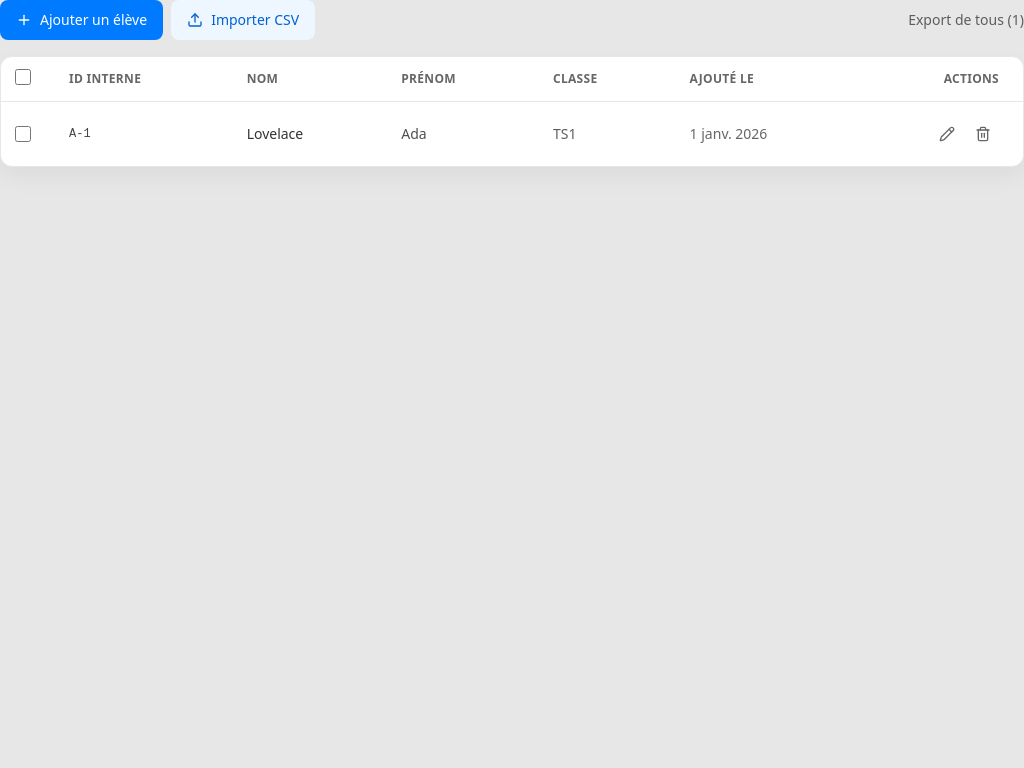
StudentsManager — actions › préremplit la fiche pour une modification
Click the button named "Modifier Lovelace Ada".
click(947, 134)  # box x1=931 y1=118 x2=963 y2=150
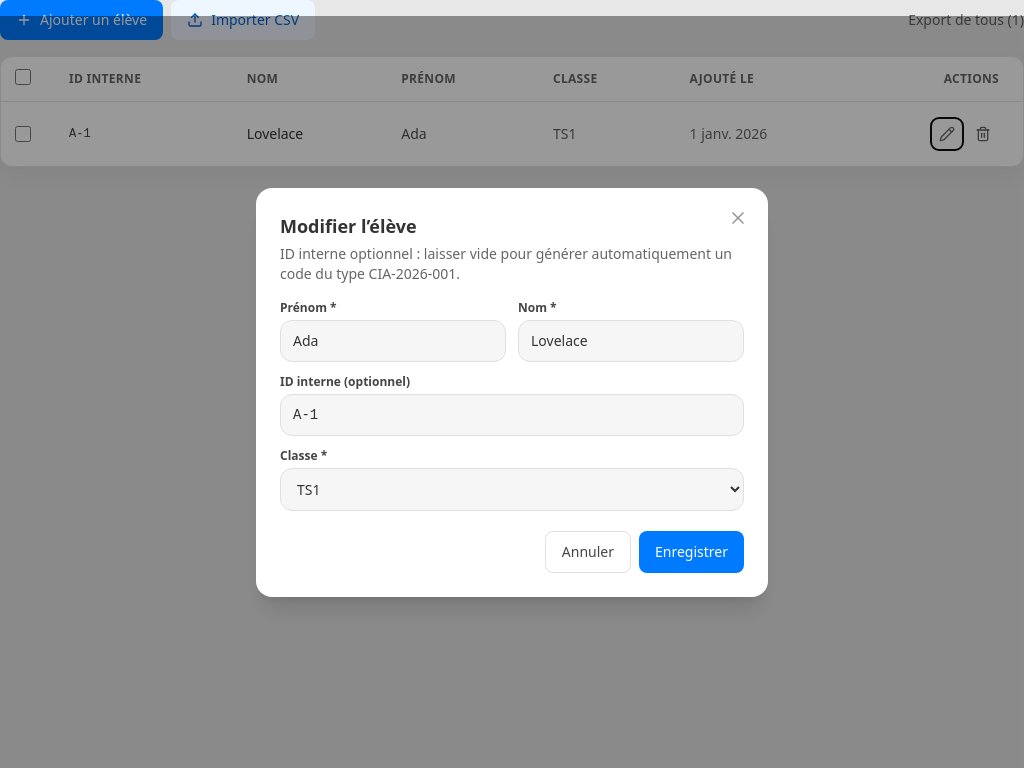
Check: the dialog "Modifier l’élève" is shown, box x1=256 y1=188 x2=768 y2=596
Check: the field labelled "Prénom *" holds "Ada", box x1=280 y1=320 x2=506 y2=362
Check: the field labelled "ID interne (optionnel)" holds "A-1", box x1=280 y1=394 x2=744 y2=436
